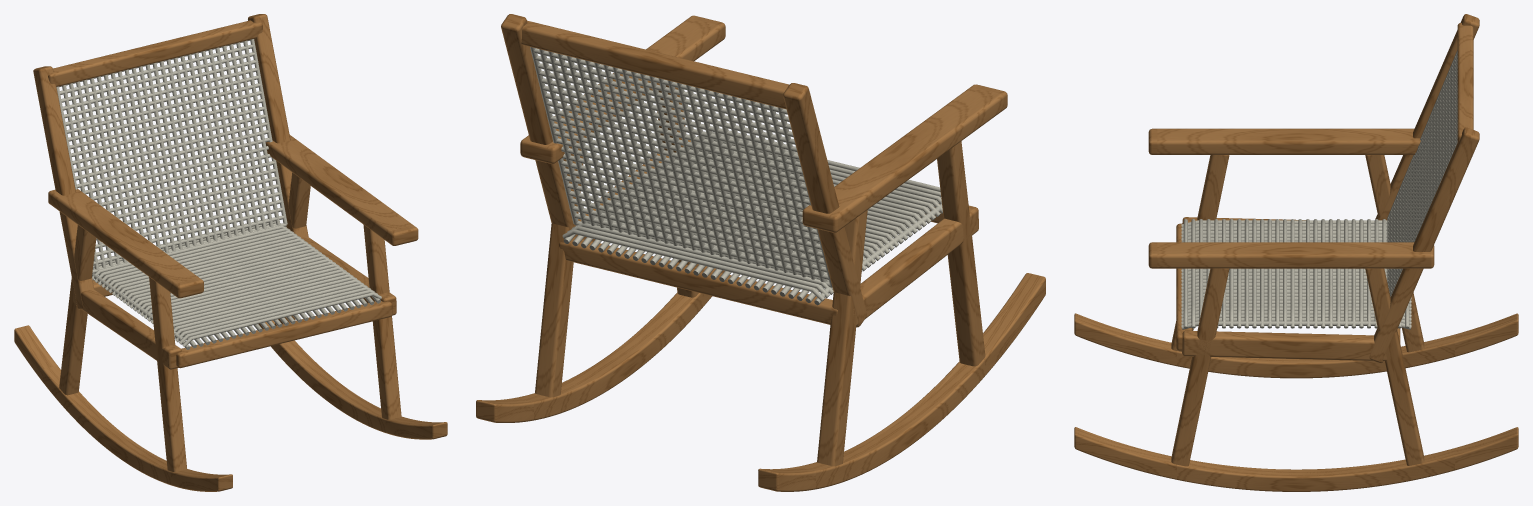
File: woven-lounge-rocker.glb
The picture shows the model from 3 angles, left to right: view 1: azimuth 30°, elevation 25°; view 2: azimuth 150°, elevation 25°; view 3: azimuth 270°, elevation 25°; orthographic projection. The views are drawn at different scales.
Visible parts, largest first — view 1: Teak | continuous curved rocking runner, Teak | long rounded arm, Teak | long rounded arm.001, Teak | frame cross tie.002, Teak | continuous curved rocking runner.001, Teak | frame cross tie, Teak | reclining back stile, Teak | rocker-mounted leg, Teak | rocker-mounted leg.002, Teak | reclining back stile.001, Teak | rocker-mounted leg.001, Teak | seat side rail (+80 smaller); view 2: Teak | continuous curved rocking runner, Teak | long rounded arm, Teak | continuous curved rocking runner.001, Teak | frame cross tie.002, Teak | reclining back stile, Teak | frame cross tie.001, Teak | rocker-mounted leg, Teak | rocker-mounted leg.001, Teak | reclining back stile.001, Teak | rocker-mounted leg.003, Teak | seat side rail, Teak | long rounded arm.001 (+54 smaller); view 3: Teak | continuous curved rocking runner.001, Teak | continuous curved rocking runner, Teak | long rounded arm.001, Teak | long rounded arm, Teak | seat side rail.001, Teak | reclining back stile.001, Teak | rocker-mounted leg.002, Teak | rocker-mounted leg.003, Teak | reclining back stile, Teak | frame cross tie.002, Teak | rocker-mounted leg.001, Teak | rocker-mounted leg (+3 smaller).
Part boxes in pixels (x1,y1,x2,y2): Teak | continuous curved rocking runner: (14,325,232,491); Teak | long rounded arm: (48,189,203,298); Teak | long rounded arm.001: (265,135,418,245); Teak | frame cross tie.002: (48,20,262,86); Teak | continuous curved rocking runner.001: (258,320,447,439); Teak | frame cross tie: (176,301,392,368); Teak | reclining back stile: (33,66,94,310); Teak | rocker-mounted leg: (149,277,186,471); Teak | rocker-mounted leg.002: (363,224,401,419); Teak | reclining back stile.001: (248,14,308,237); Teak | rocker-mounted leg.001: (59,225,96,395); Teak | seat side rail: (73,289,181,369); Teak | continuous curved rocking runner: (758,273,1045,491); Teak | long rounded arm: (802,84,1007,232); Teak | continuous curved rocking runner.001: (476,266,724,422); Teak | frame cross tie.002: (521,20,789,109); Teak | reclining back stile: (783,83,866,327); Teak | frame cross tie.001: (559,237,837,324); Teak | rocker-mounted leg: (937,141,985,366); Teak | rocker-mounted leg.001: (817,210,867,466); Teak | reclining back stile.001: (501,14,577,237); Teak | rocker-mounted leg.003: (535,148,583,397); Teak | seat side rail: (853,205,978,325); Teak | long rounded arm.001: (520,15,725,163); Teak | continuous curved rocking runner.001: (1074,427,1518,491); Teak | continuous curved rocking runner: (1074,313,1518,378); Teak | long rounded arm.001: (1148,242,1434,268); Teak | long rounded arm: (1148,128,1420,154); Teak | seat side rail.001: (1182,330,1387,361); Teak | reclining back stile.001: (1369,127,1479,363); Teak | rocker-mounted leg.002: (1171,268,1229,466); Teak | rocker-mounted leg.003: (1365,268,1424,465); Teak | reclining back stile: (1375,14,1479,220); Teak | frame cross tie.002: (1457,23,1473,143); Teak | rocker-mounted leg.001: (1365,155,1424,352); Teak | rocker-mounted leg: (1171,155,1229,351).
Bounding box in the file's own units: 0.776 × 1.01 × 1.14.
2 materials, 2 textured.
